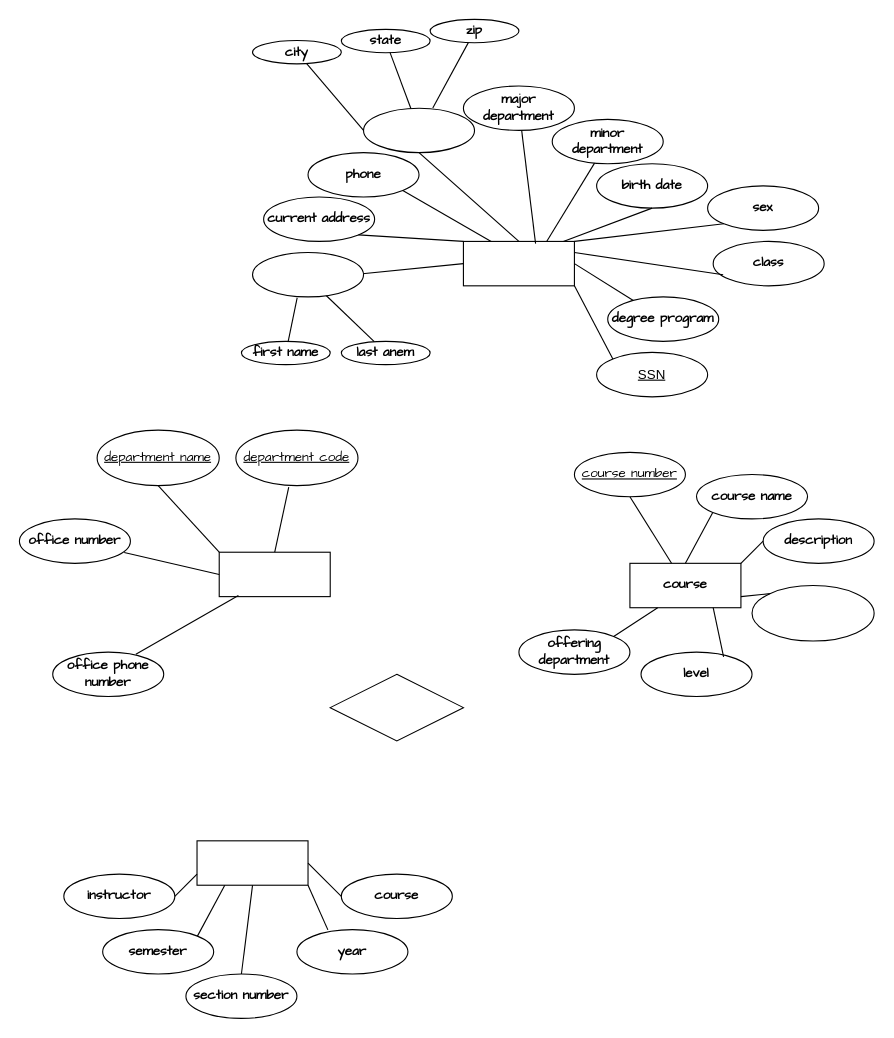
The diagram is 894 pixels wide and 1038 high, and some of its shapes have lost their labels. The box of each missing label's shape, as (x1, y1, x2, y2) in pixels:
Department: (218, 551, 330, 597)
grade report: (329, 673, 463, 741)
number of semester hours: (751, 584, 874, 641)
permanent address: (362, 107, 475, 153)
section: (196, 840, 308, 885)
student info: (462, 240, 574, 286)
student's name: (251, 251, 364, 297)
